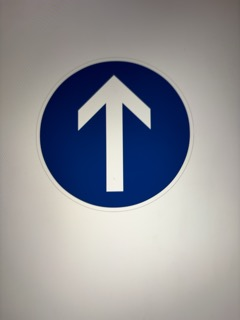GO FORWARD: (39, 59, 191, 207)
